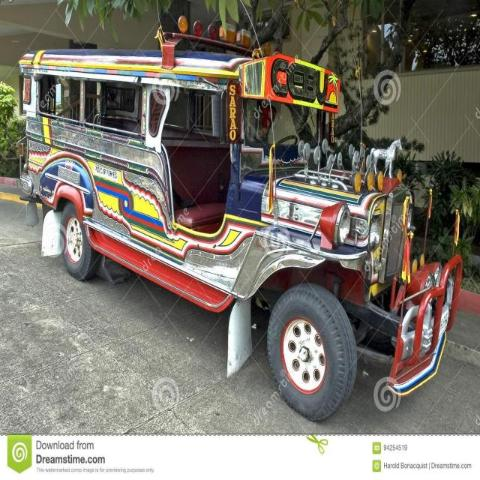jeepney: (11, 40, 469, 411)
